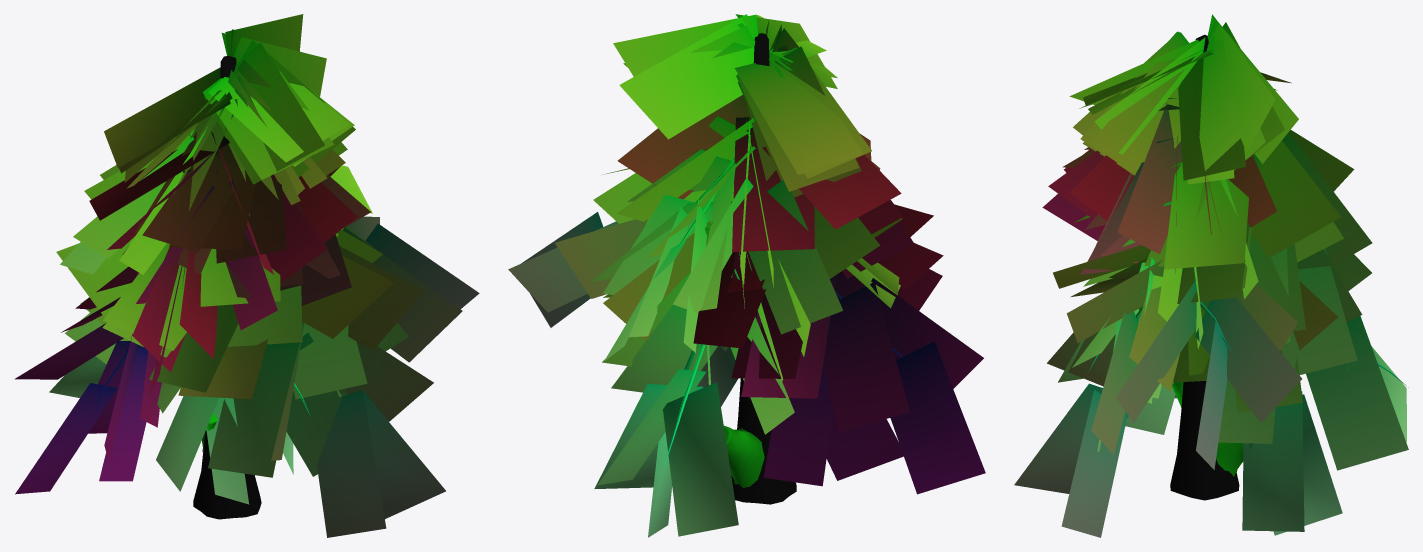
File: M_Pine_3_12.fbx
The picture shows the model from 3 angles, left to right: view 1: azimuth 30°, elevation 25°; view 2: azimuth 150°, elevation 25°; view 3: azimuth 270°, elevation 25°; orthographic projection.
Parts seen in each view (by area): view 1: Tree_12; view 2: Tree_12; view 3: Tree_12.
Boxes of the visible parts, bbox=[...] form: Tree_12: bbox=[14, 14, 479, 537]; Tree_12: bbox=[508, 14, 985, 537]; Tree_12: bbox=[1014, 14, 1408, 537].
Bounding box in the file's own units: 1774 × 1801 × 1304.
